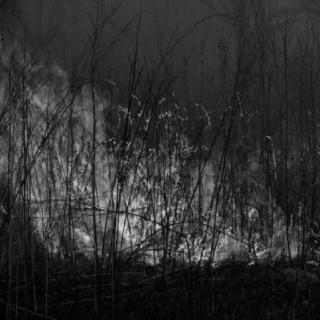Fire: (2, 31, 312, 265)
